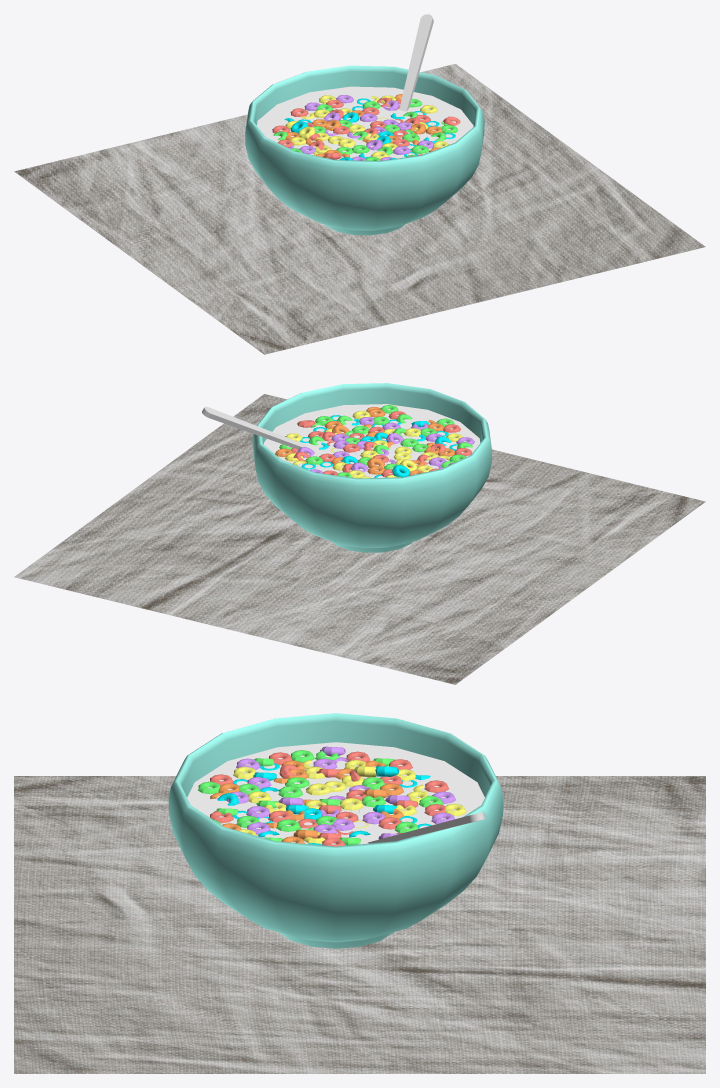
File: cereal.glb
3 renders of one model, top to bottom at view 1: azimuth 30°, elevation 25°; view 2: azimuth 150°, elevation 25°; view 3: azimuth 270°, elevation 25°, orthographic. The views are drawn at different scales.
Visible parts, largest first — view 1: Object_3, Object_2, Object_4, Object_10, Object_11, Object_9, Object_7, Object_5, Object_8, Object_6; view 2: Object_3, Object_2, Object_4, Object_9, Object_10, Object_11, Object_7, Object_8, Object_6, Object_5; view 3: Object_3, Object_2, Object_4, Object_10, Object_9, Object_11, Object_7, Object_8, Object_6, Object_5.
Part boxes in pixels (bbox=[...]): Object_3: bbox=[14, 64, 705, 354]; Object_2: bbox=[245, 65, 484, 235]; Object_4: bbox=[257, 86, 473, 159]; Object_10: bbox=[272, 97, 460, 159]; Object_11: bbox=[285, 95, 449, 159]; Object_9: bbox=[273, 99, 458, 160]; Object_7: bbox=[288, 95, 433, 160]; Object_5: bbox=[399, 14, 433, 111]; Object_8: bbox=[285, 94, 442, 158]; Object_6: bbox=[284, 98, 455, 160]; Object_3: bbox=[14, 394, 705, 684]; Object_2: bbox=[252, 383, 491, 552]; Object_4: bbox=[263, 404, 480, 477]; Object_9: bbox=[279, 405, 472, 477]; Object_10: bbox=[291, 411, 472, 476]; Object_11: bbox=[285, 411, 462, 478]; Object_7: bbox=[297, 417, 474, 473]; Object_8: bbox=[275, 406, 454, 475]; Object_6: bbox=[300, 415, 458, 477]; Object_5: bbox=[202, 406, 307, 449]; Object_3: bbox=[14, 776, 705, 1073]; Object_2: bbox=[168, 713, 503, 948]; Object_4: bbox=[187, 742, 484, 844]; Object_10: bbox=[210, 751, 448, 846]; Object_9: bbox=[198, 750, 443, 845]; Object_11: bbox=[233, 760, 466, 843]; Object_7: bbox=[226, 746, 455, 839]; Object_8: bbox=[210, 760, 403, 843]; Object_6: bbox=[217, 763, 431, 845]; Object_5: bbox=[368, 812, 485, 843].
Bounding box in the file's own units: 24.4 × 7.35 × 23.96.
Materials: 10 (1 with a texture image).
